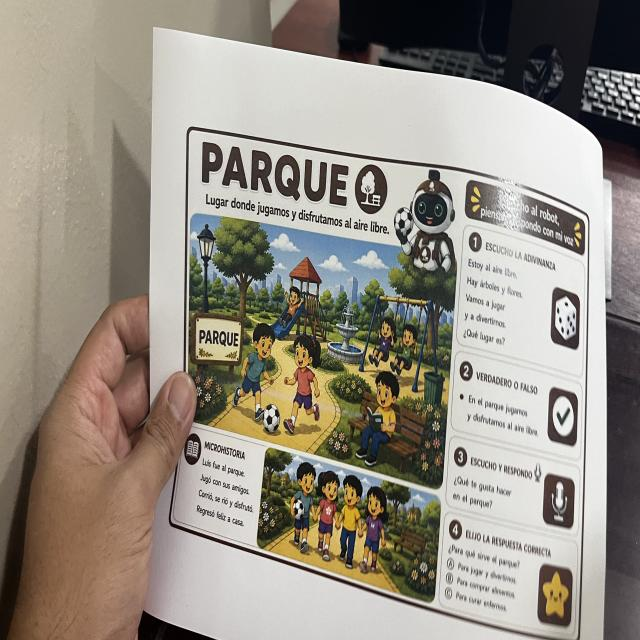parque: (166, 121, 593, 640)
